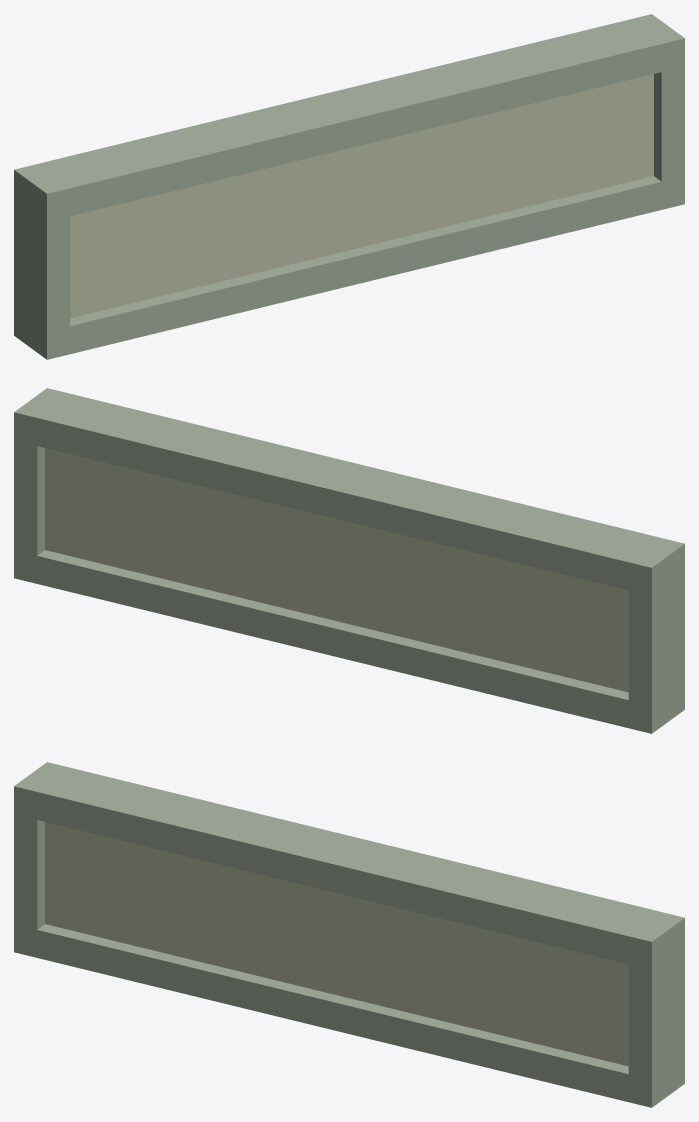
File: Barrière pierre 2 fixed.fbx
3 views of the same model, one above another, from view 1: azimuth 30°, elevation 25°; view 2: azimuth 150°, elevation 25°; view 3: azimuth 330°, elevation 25° (orthographic).
Visible parts, largest first — view 1: Rambarde Centre 2.0; view 2: Rambarde Centre 2.0; view 3: Rambarde Centre 2.0.
Boxes of the visible parts, <box> form: Rambarde Centre 2.0: <box>14,14,684,359</box>; Rambarde Centre 2.0: <box>14,388,684,733</box>; Rambarde Centre 2.0: <box>14,762,684,1107</box>.
Bounding box in the file's own units: 245 × 60.92 × 22.05.
